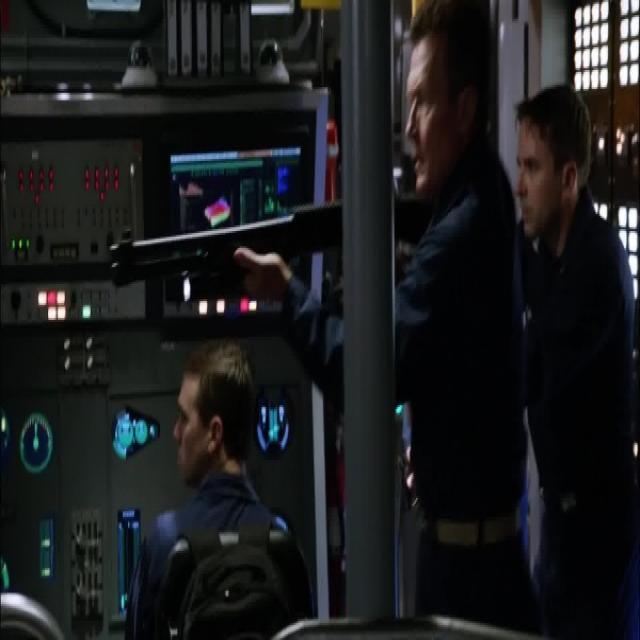rifle: (109, 192, 442, 293)
